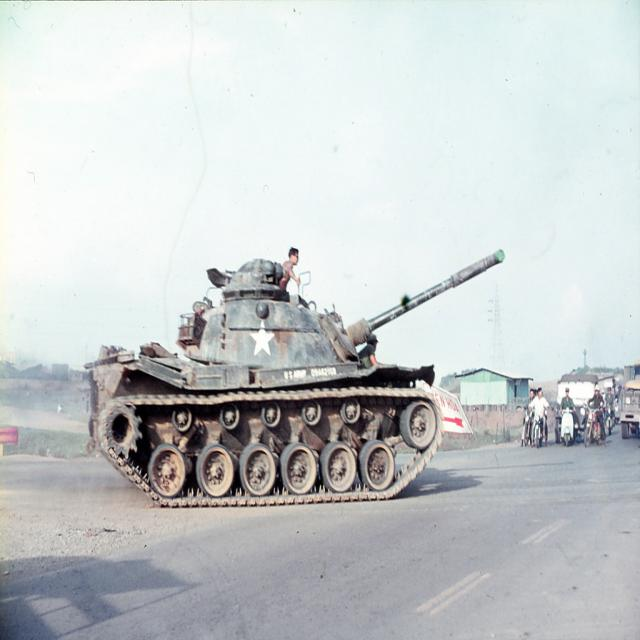tank: (80, 255, 504, 506)
